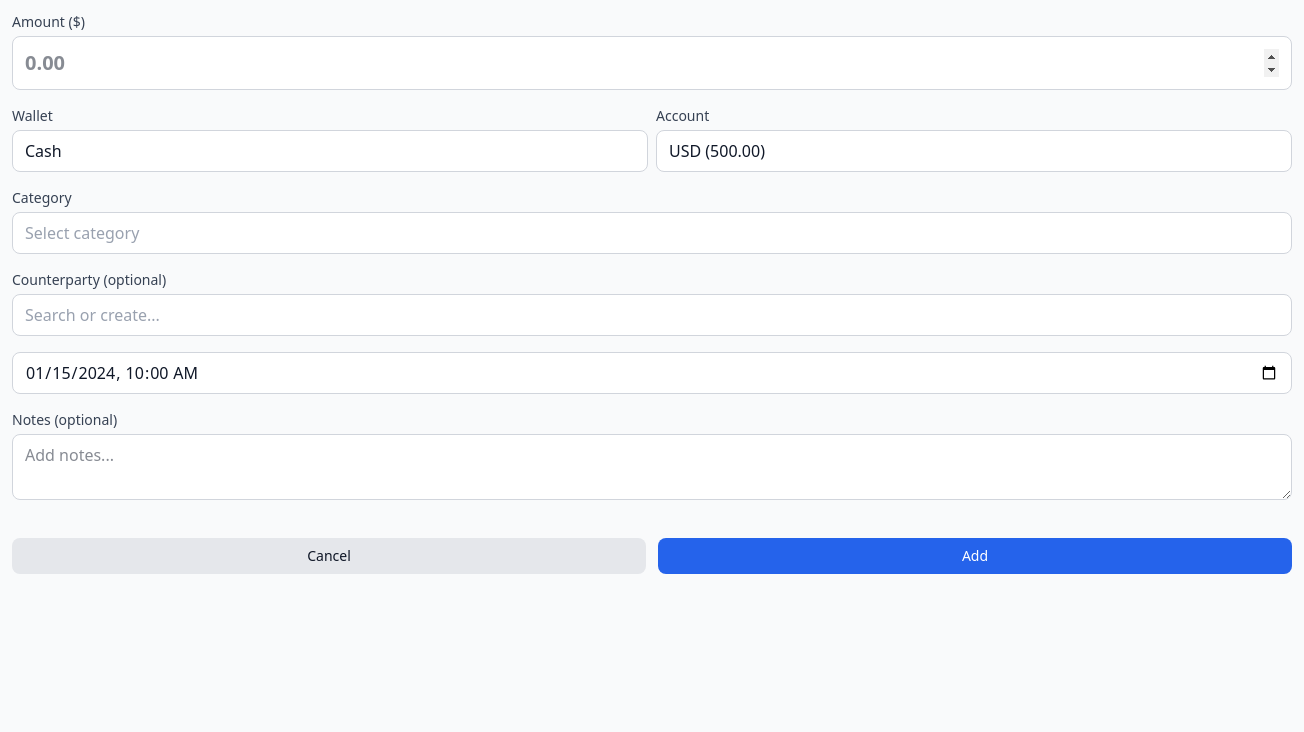
Test: IncomeTransactionForm › shows income tags in category dropdown
This screenshot has width=1304, height=732.
Step 1. Focus the dropdown labelled "Category" → (652, 233), box 12,212 -> 1292,254
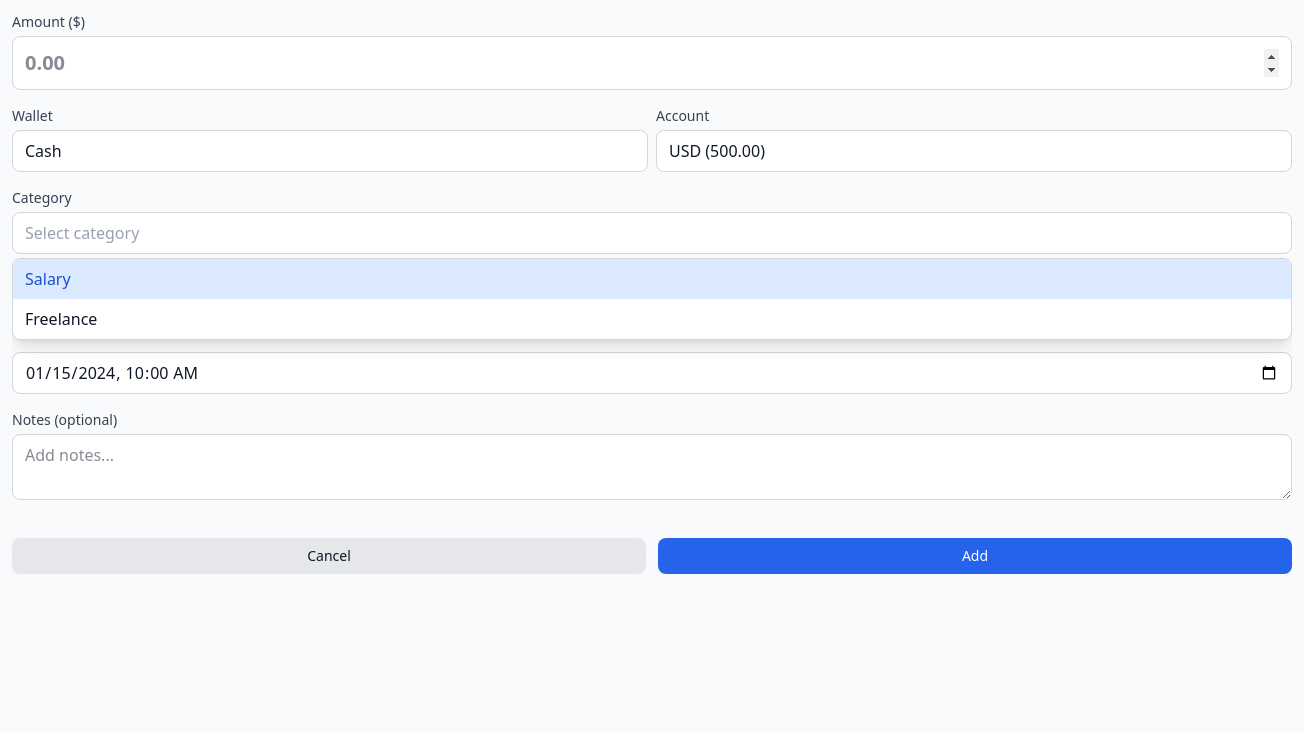
Result: the option "Salary" is shown at 13,259 -> 1291,299
Result: the option "Freelance" is shown at 25,308 -> 97,330
